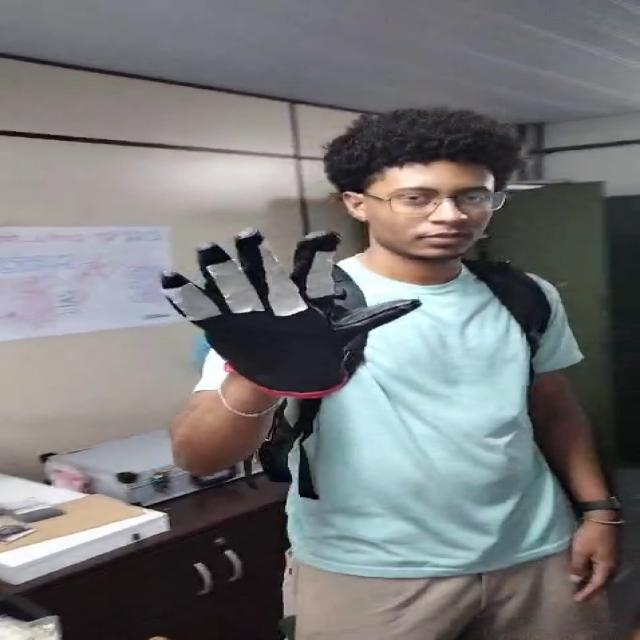Gloves: (150, 226, 422, 391)
